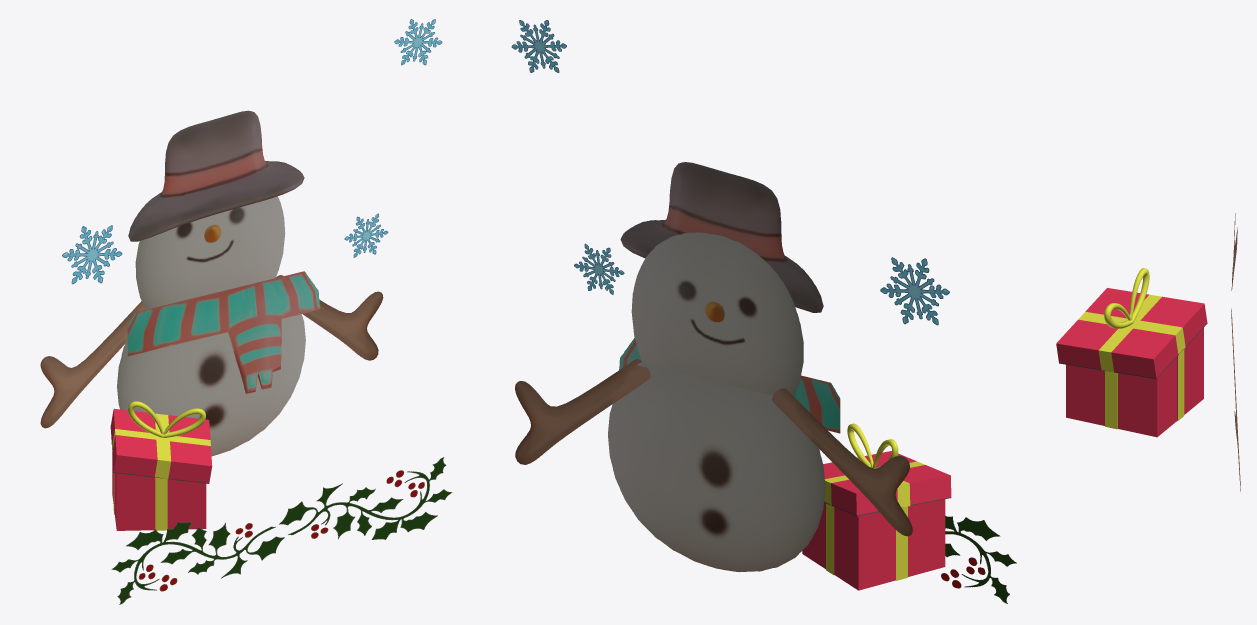
File: bonecoNeve.glb
The picture shows the model from 3 angles, left to right: view 1: azimuth 30°, elevation 25°; view 2: azimuth 150°, elevation 25°; view 3: azimuth 270°, elevation 25°; orthographic projection. The views are drawn at different scales.
Visible parts, largest first — view 1: boneco, chapeu, chale, ramo, Cube.001, Cube, braco, braco.001, estrela3.001, estrela3.003, estrela3.002; view 2: boneco, chapeu, Cube, braco.001, braco, Cube.001, ramo, chale, estrela3.001, estrela3.003, estrela3.002; view 3: Cube.001, Cube, braco.001.
Boxes of the visible parts, box(x1,y1,x2,y2) form: boneco: box(117, 196, 305, 456); chapeu: box(128, 110, 304, 241); chale: box(127, 271, 320, 393); ramo: box(111, 457, 452, 604); Cube.001: box(110, 401, 212, 483); Cube: box(112, 455, 206, 530); braco: box(40, 301, 145, 428); braco.001: box(275, 275, 383, 360); estrela3.001: box(62, 225, 122, 284); estrela3.003: box(394, 19, 442, 65); estrela3.002: box(344, 213, 388, 257); boneco: box(608, 232, 825, 572); chapeu: box(620, 162, 823, 312); Cube: box(802, 499, 945, 590); braco.001: box(515, 359, 650, 464); braco: box(772, 388, 912, 536); Cube.001: box(823, 423, 951, 516); ramo: box(941, 515, 1016, 603); chale: box(619, 338, 840, 433); estrela3.001: box(880, 257, 949, 325); estrela3.003: box(511, 20, 566, 72); estrela3.002: box(574, 243, 624, 294); Cube.001: box(1056, 268, 1207, 379); Cube: box(1066, 328, 1203, 437); braco.001: box(1231, 308, 1240, 491).
Size of what is drawn, in the model's own units: 2.09 by 2.31 by 0.7548.
10 materials, 7 textured.
